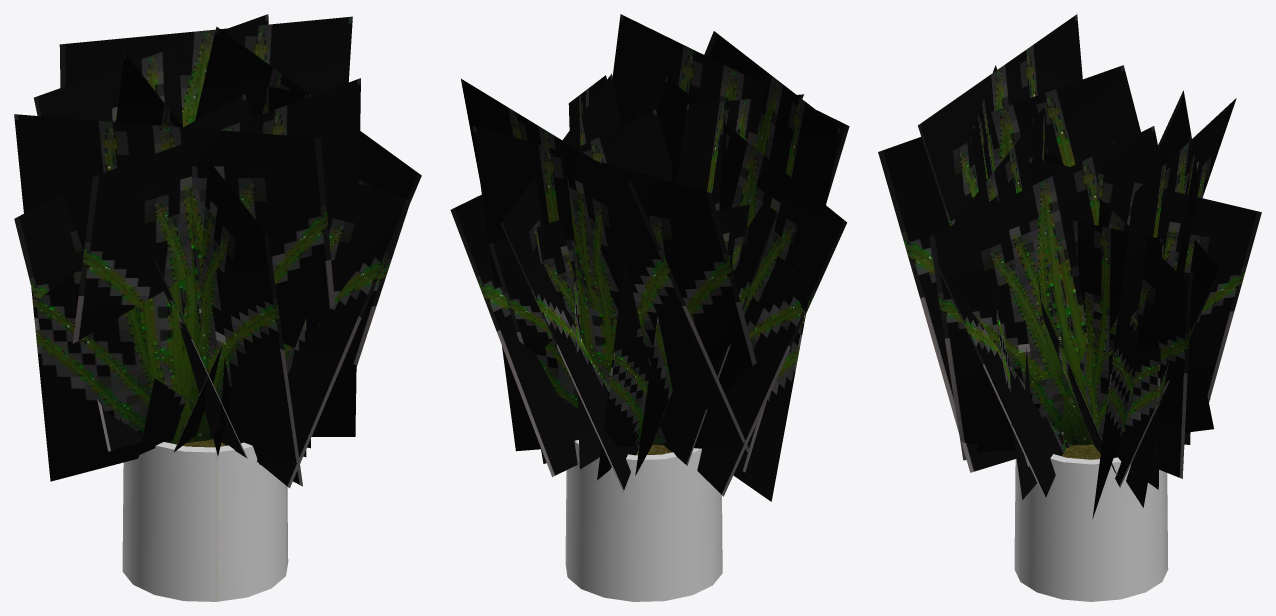
File: pot_plant_a.glb
3 views of the same model, side by side, from view 1: azimuth 30°, elevation 25°; view 2: azimuth 150°, elevation 25°; view 3: azimuth 270°, elevation 25° (orthographic). The views are drawn at different scales.
Visible parts, largest first — view 1: Pot_Low_PolyPlant_0; view 2: Pot_Low_PolyPlant_0; view 3: Pot_Low_PolyPlant_0.
Part boxes in pixels (x1=…): Pot_Low_PolyPlant_0: x1=14, y1=14, x2=421, y2=601; Pot_Low_PolyPlant_0: x1=450, y1=14, x2=849, y2=601; Pot_Low_PolyPlant_0: x1=878, y1=14, x2=1261, y2=601.
Bounding box in the file's own units: 0.528 × 0.7 × 0.5116.
1 material, 1 textured.
